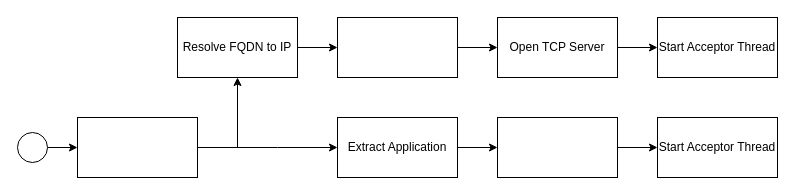
The diagram is 795 pixels wide and 195 high, and some of its shapes have lost their labels. Here are the shapes that lost their labels. From the top down, the centre of each, then its label:
At (x=397, y=47): "Resolve Port to Integer".
At (x=137, y=147): "Read DEFCOM File".
At (x=557, y=147): "Open Unix Server".
